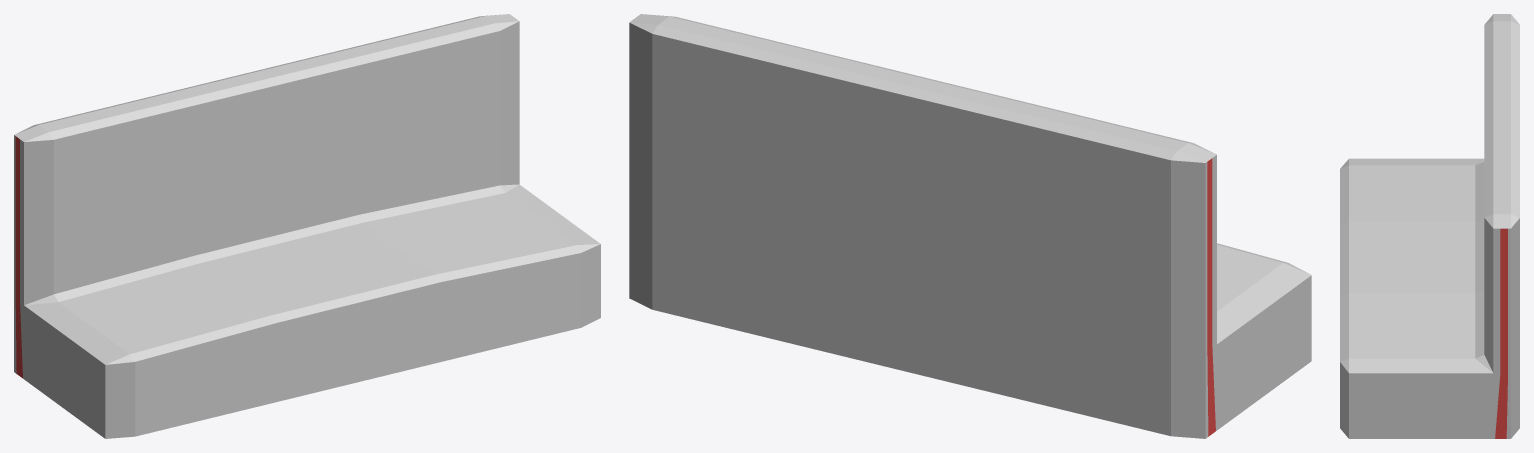
File: Couch.fbx
The picture shows the model from 3 angles, left to right: view 1: azimuth 30°, elevation 25°; view 2: azimuth 150°, elevation 25°; view 3: azimuth 270°, elevation 25°; orthographic projection. The views are drawn at different scales.
Parts seen in each view (by area): view 1: Cube; view 2: Cube; view 3: Cube.
Boxes of the visible parts, x1,y1,x2,y2 form: Cube: (14, 14, 600, 438); Cube: (629, 14, 1311, 438); Cube: (1340, 14, 1519, 438).
Size of the model in its own units: 1330 by 629 by 472.
